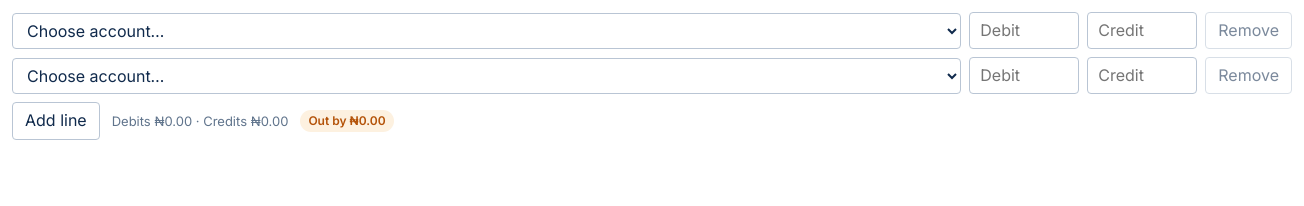
it: JournalLinesEditor › only removes a line once there are more than two
The width and height of the screenshot is (1304, 206).
Check: the 1st button "Remove" is disabled, box 1205,12 -> 1292,49
Click the button "Add line": (56, 121) 12,102 -> 100,140
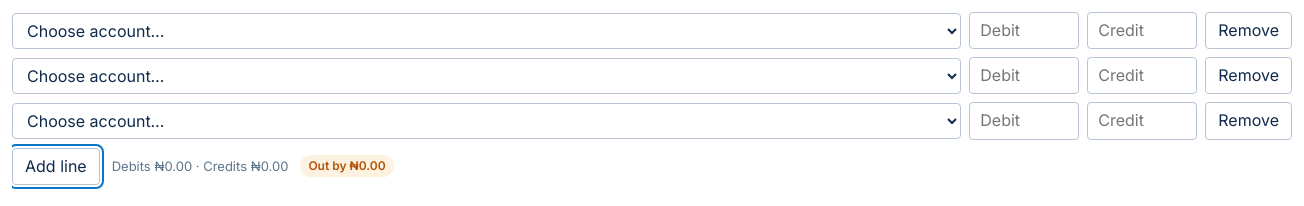
Check: the number of buttons "Remove" is 3
Click the 3rd button "Remove": (1249, 121) 1205,102 -> 1292,140
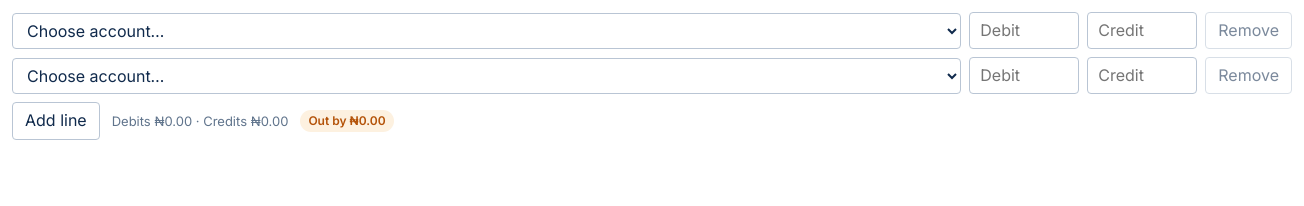
Check: the number of dropdowns named "account" is 2, box 12,13 -> 961,49; 12,58 -> 961,94
